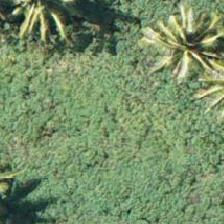coconut_tree: (140, 2, 223, 92)
